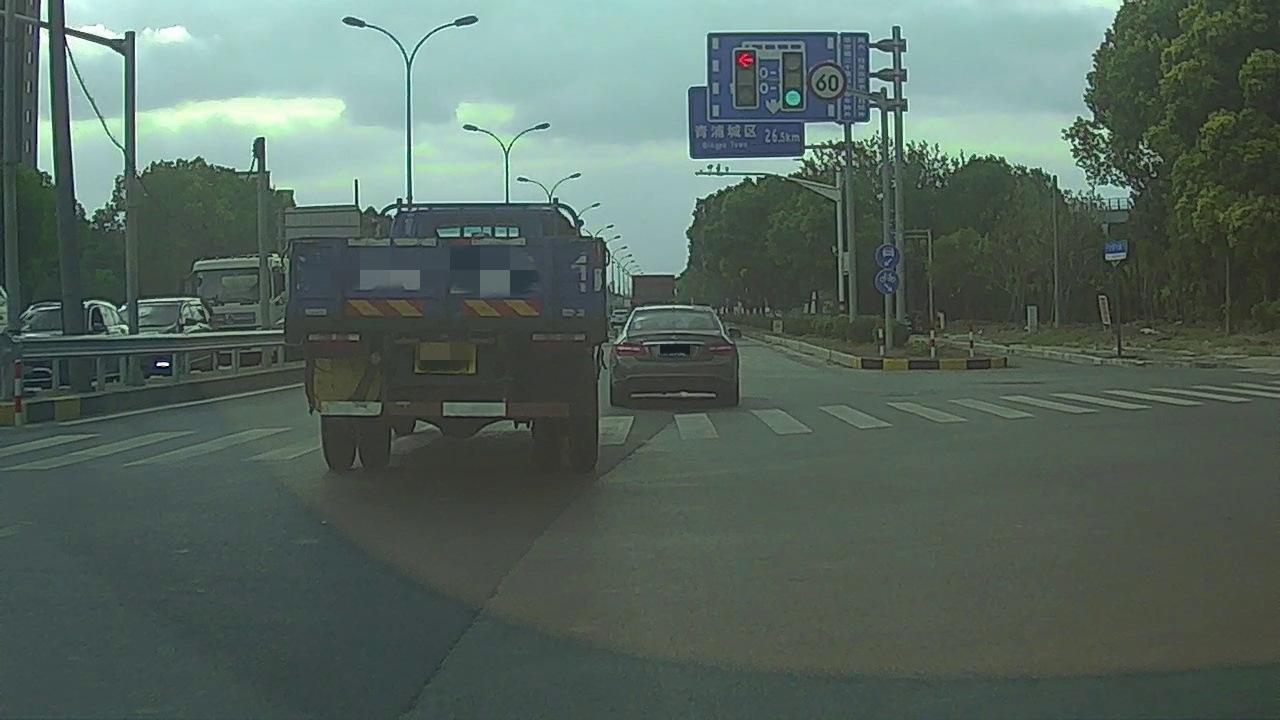traffic_light: (735, 49, 756, 107), (784, 49, 803, 107)
